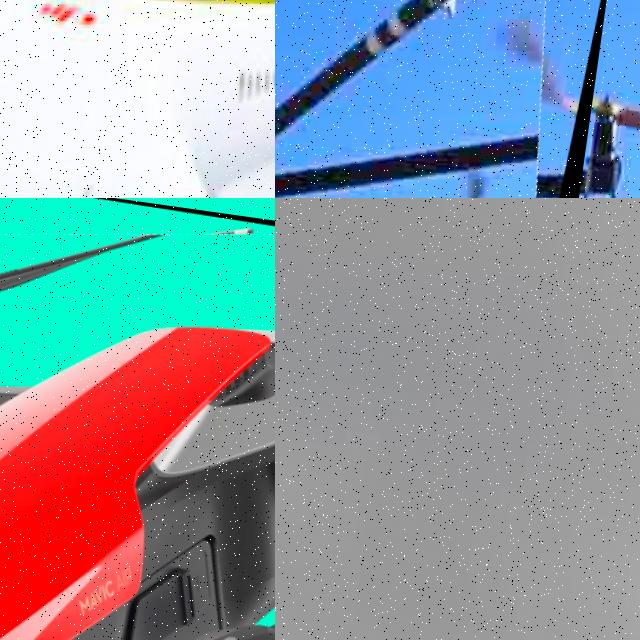0: (275, 0, 620, 198)
drone: (0, 198, 275, 640), (0, 0, 275, 198)
